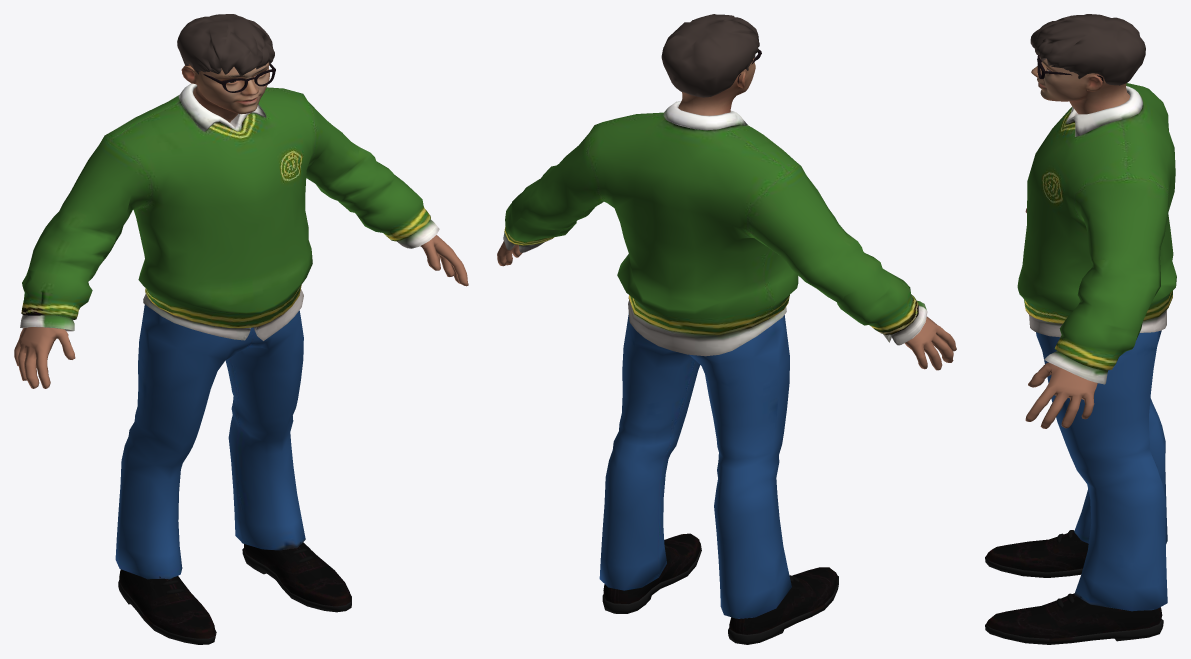
File: finalman.glb
3 renders of one model, left to right at view 1: azimuth 30°, elevation 25°; view 2: azimuth 150°, elevation 25°; view 3: azimuth 270°, elevation 25°, orthographic.
Visible parts, largest first — view 1: Wolf3D_Outfit_Top; view 2: Wolf3D_Outfit_Top; view 3: Wolf3D_Outfit_Top.
Part boxes in pixels (x1=…): Wolf3D_Outfit_Top: x1=14, y1=14, x2=468, y2=644; Wolf3D_Outfit_Top: x1=497, y1=14, x2=956, y2=644; Wolf3D_Outfit_Top: x1=985, y1=14, x2=1176, y2=644.
Bounding box in the file's own units: 0.8 × 1 × 0.3.
Materials: 9 (9 with a texture image).
